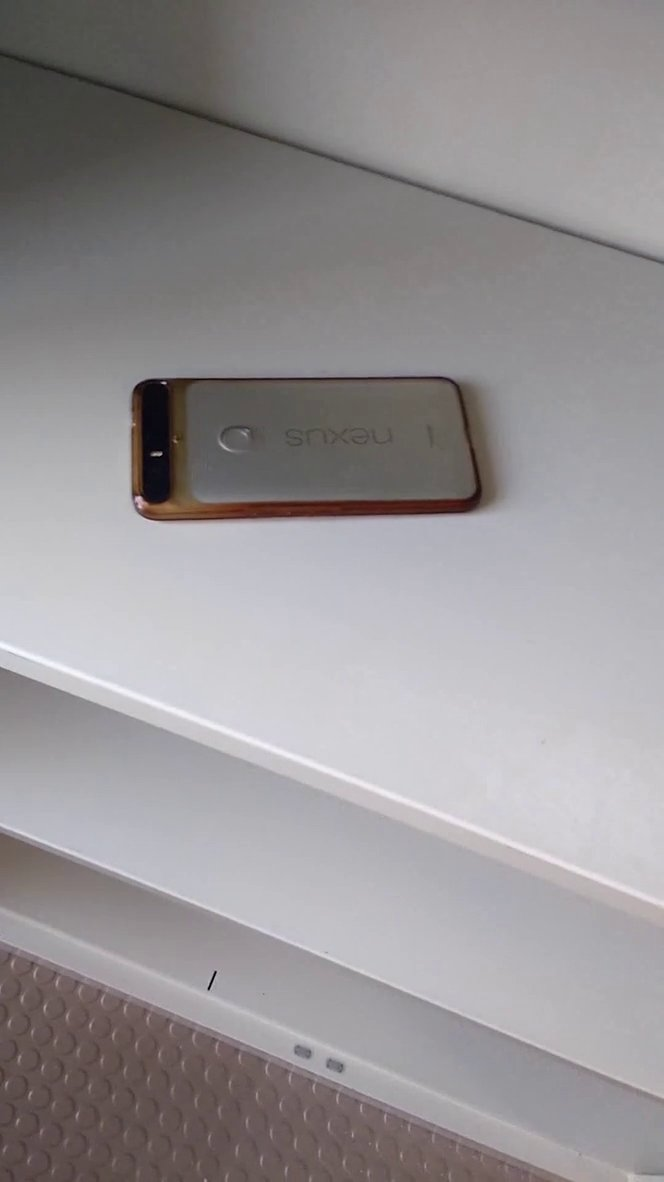phone: (118, 363, 493, 542)
